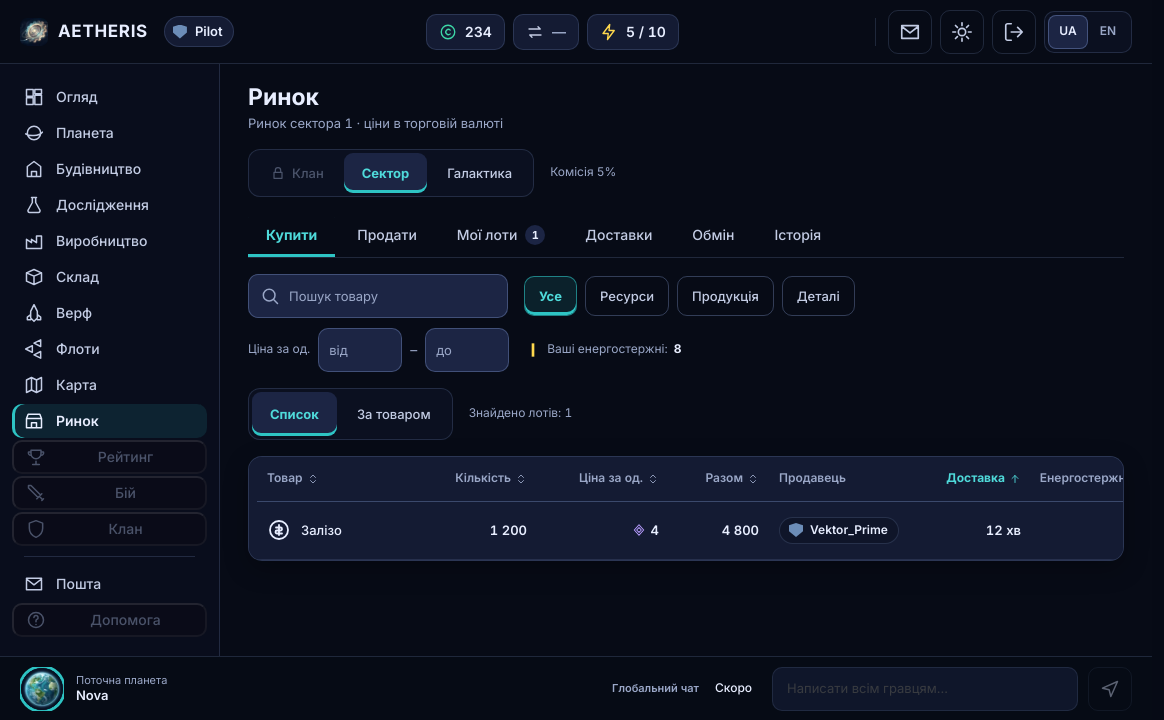
Test: the tab Sell › stops at the limit of the lots
Click the tab "Продати".
click(387, 235)  # box [339, 213, 435, 257]
(page scrolled)
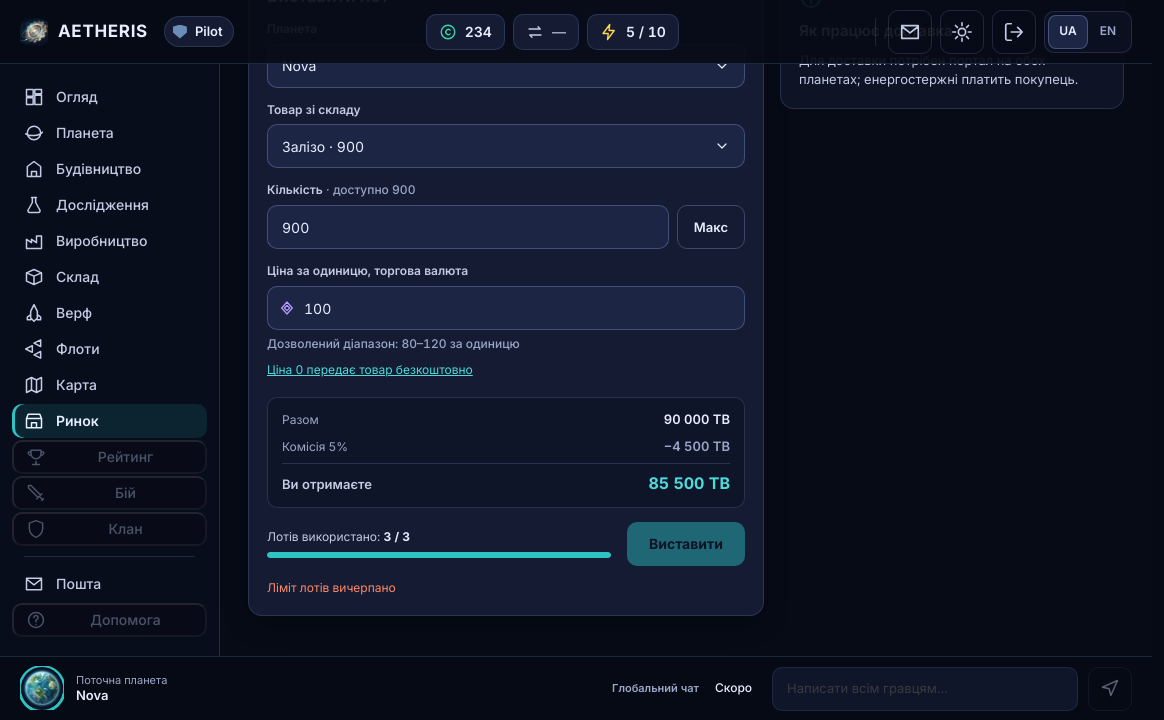
Result: the button "Виставити" is disabled at [627, 522, 745, 566]
Result: the text "Ліміт лотів вичерпано" is shown at [267, 580, 396, 595]
